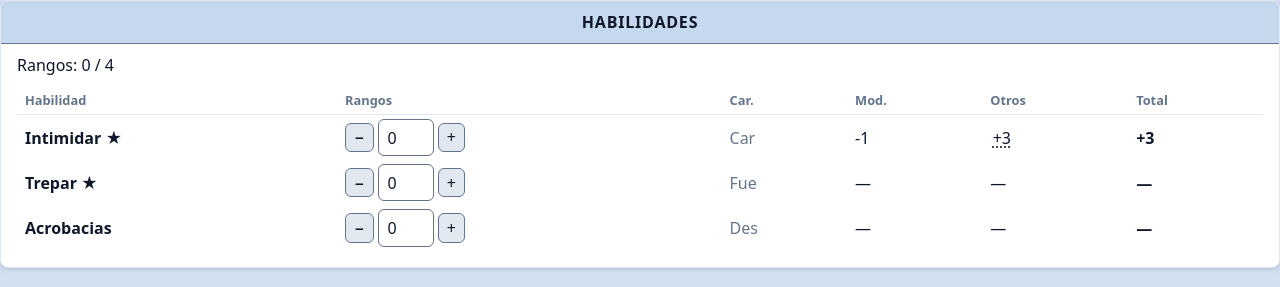
Test: SkillsSection › explains the others figure on hover and on keyboard focus
This screenshot has width=1280, height=287.
Hover over the button named "Ver los bonificadores de Intimidar" at (1002, 138), box [990,126,1013,150]
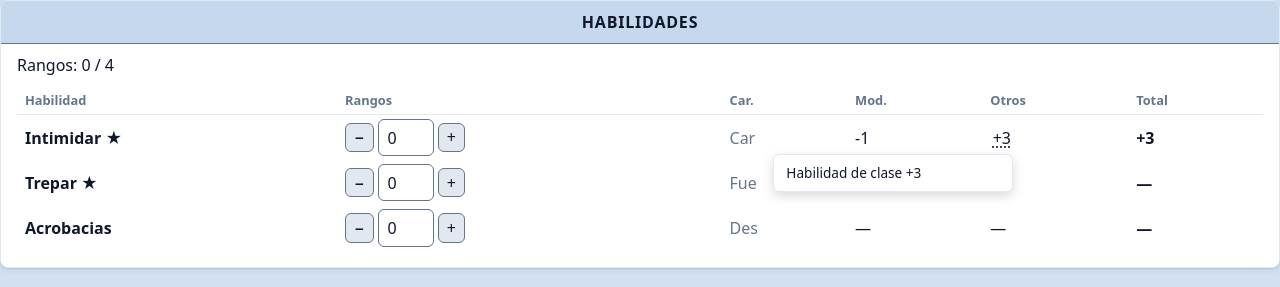
Expected: the tooltip does not show "Carisma", [773,154,1013,192]
Expected: the tooltip shows "Habilidad de clase", [786,163,902,182]
Move the pointer off the button named "Ver los bonificadores de Intimidar", box [990,126,1013,150]
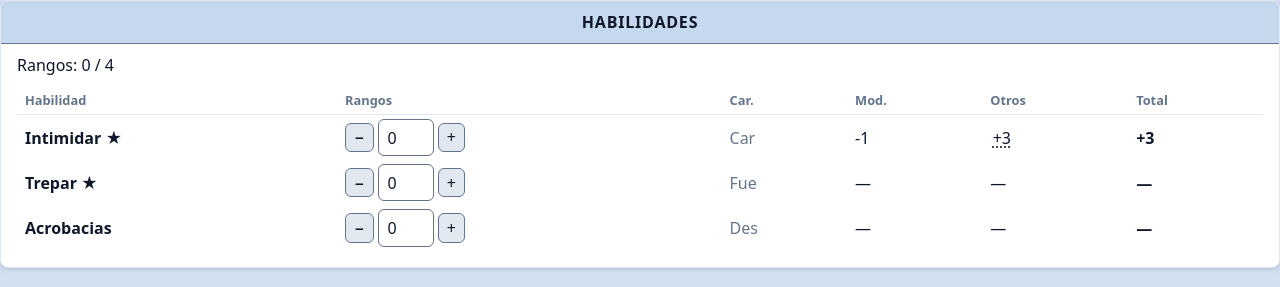
Expected: the tooltip "Habilidad de clase+3" is gone
Note: Hover alone would leave this unreachable by keyboard and dead on touch.
Focus the button named "Ver los bonificadores de Intimidar" at (1002, 138), box [990,126,1013,150]
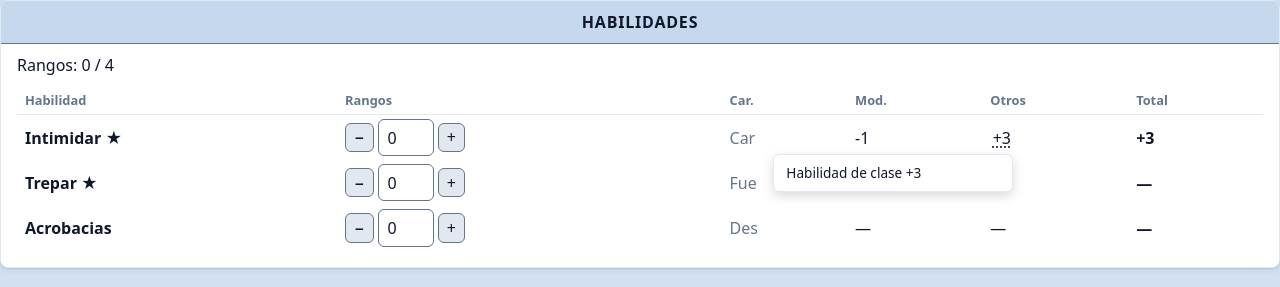
Expected: the tooltip "Habilidad de clase +3" is shown, [773,154,1013,192]
